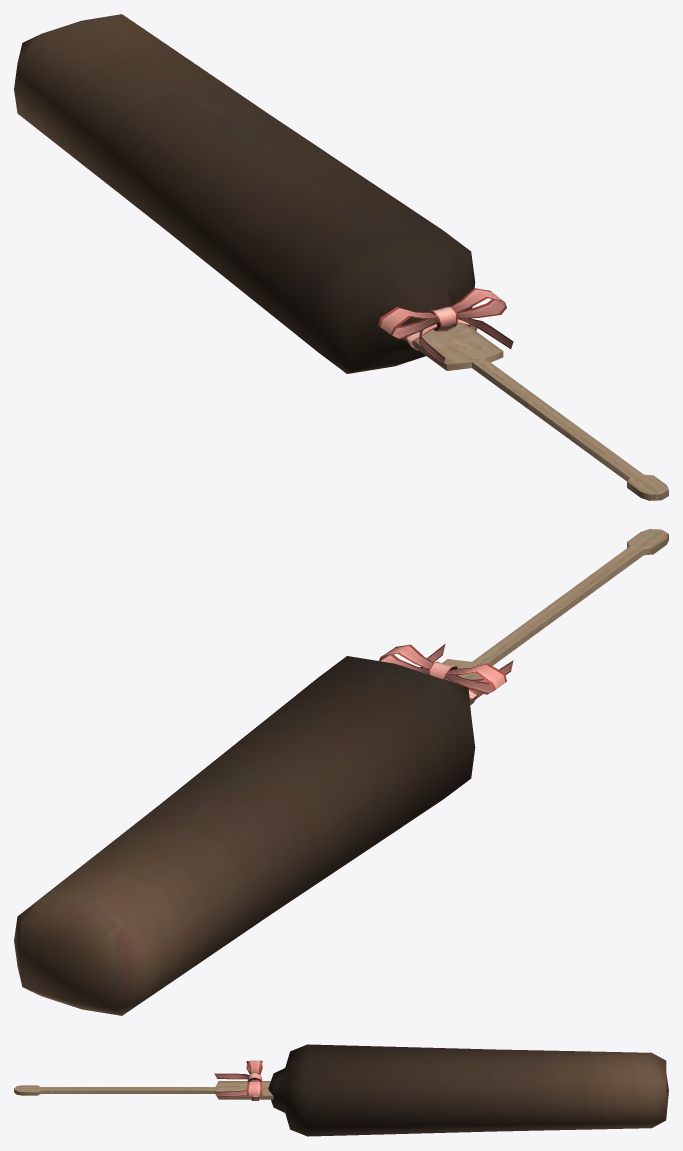
The model's file is sword_l_chocobar_sword_l_choco_bar1.glb.
3 views of the same model, one above another, from view 1: azimuth 30°, elevation 25°; view 2: azimuth 150°, elevation 25°; view 3: azimuth 270°, elevation 25° (orthographic). The views are drawn at different scales.
Bounding box in the file's own units: 0.356 × 0.2721 × 2.28.
Materials: 2 (2 with a texture image).
